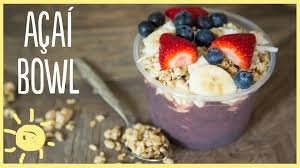sushi: (133, 6, 279, 150)
